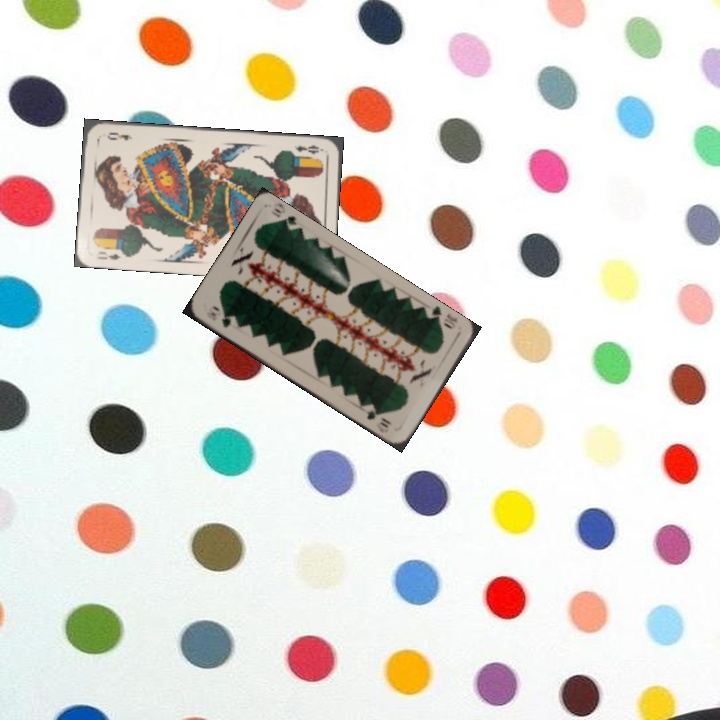EO: (291, 141, 327, 157), (93, 247, 124, 262)
G10: (422, 303, 460, 332), (207, 308, 234, 330)
